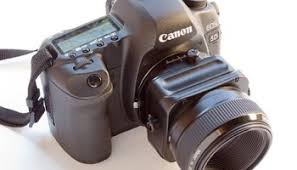camera: (39, 2, 270, 167)
